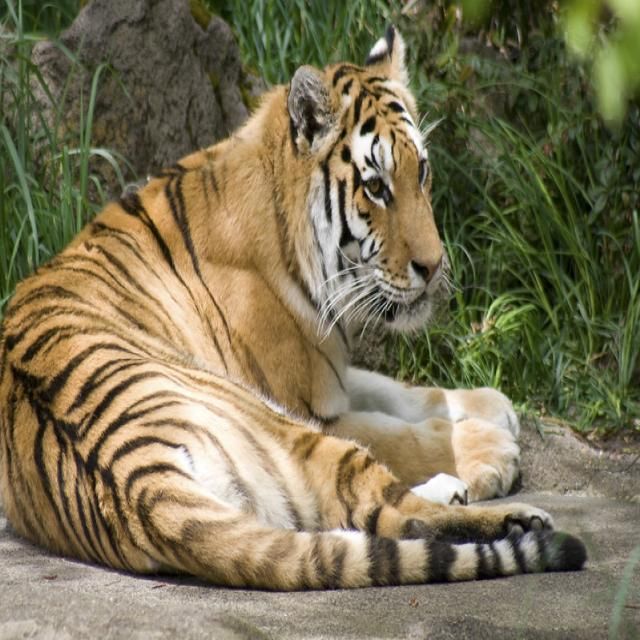Tiger: (13, 31, 540, 599)
